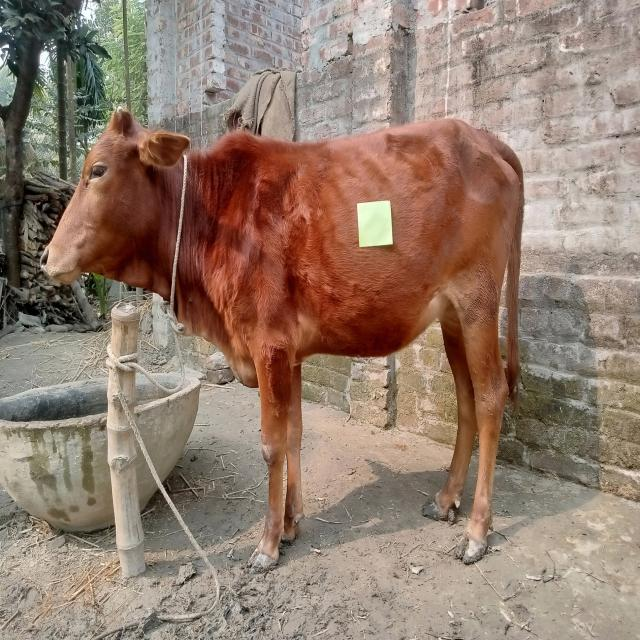badan_sapi: (228, 122, 523, 372)
sapi: (38, 102, 531, 579)
